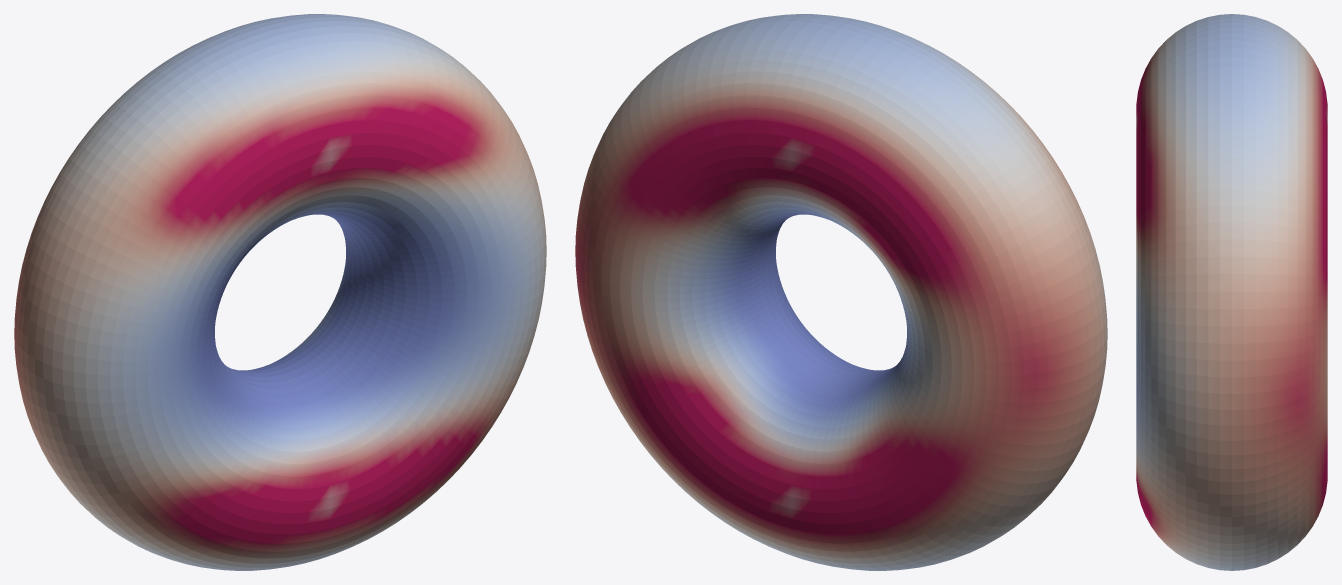
3 views of the same model, side by side, from view 1: azimuth 30°, elevation 25°; view 2: azimuth 150°, elevation 25°; view 3: azimuth 270°, elevation 25° (orthographic). The views are drawn at different scales.
Parts seen in each view (by area): view 1: world; view 2: world; view 3: world.
Part boxes in pixels (<box>): world: <box>14,14,546,570</box>; world: <box>575,14,1107,570</box>; world: <box>1136,14,1327,570</box>.
Size of the model in its own units: 21.33 by 21.33 by 7.32.
